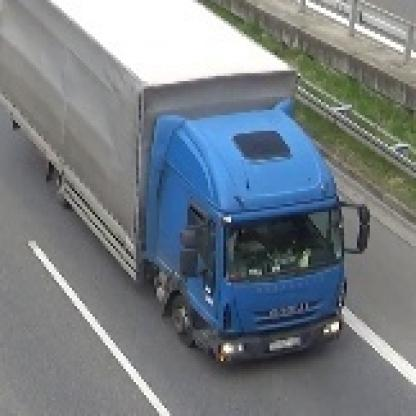truck: (1, 1, 368, 367)
